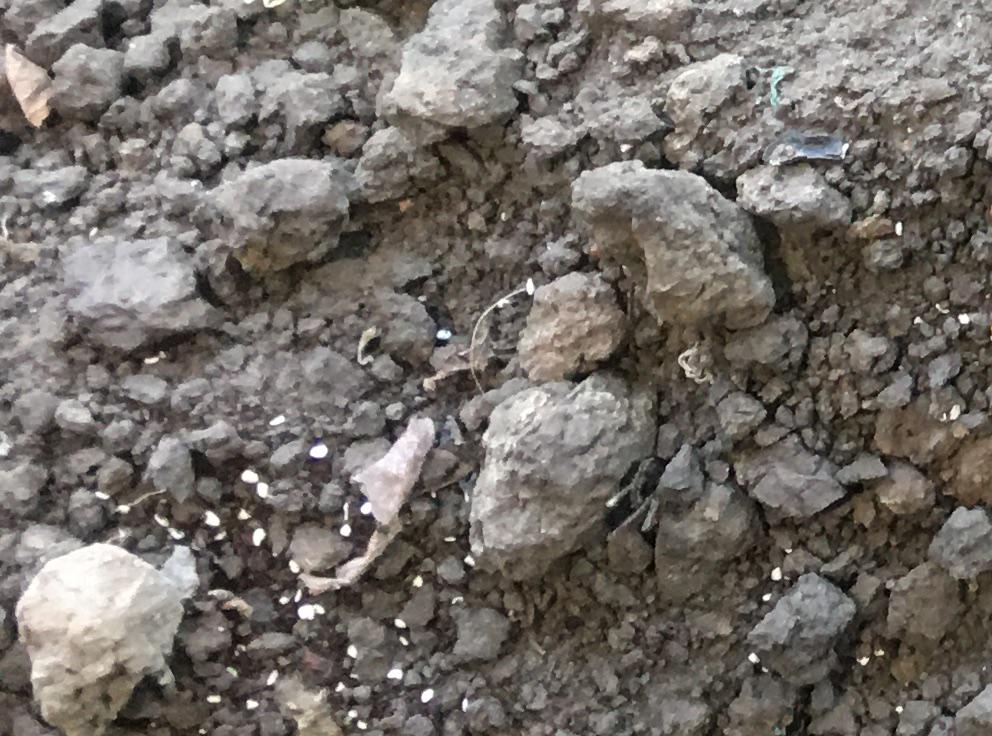block: (472, 374, 655, 585), (567, 160, 772, 335), (18, 539, 191, 734), (210, 156, 349, 282), (51, 243, 214, 345), (398, 1, 521, 128), (753, 574, 843, 690)
